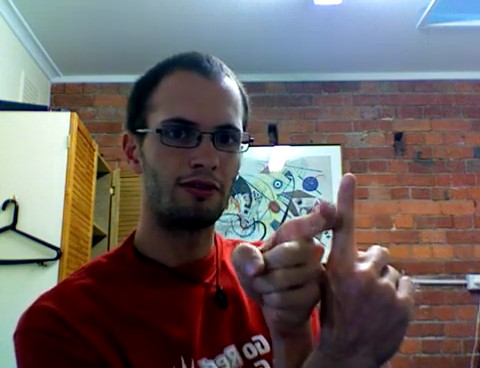K: (225, 167, 431, 364)
